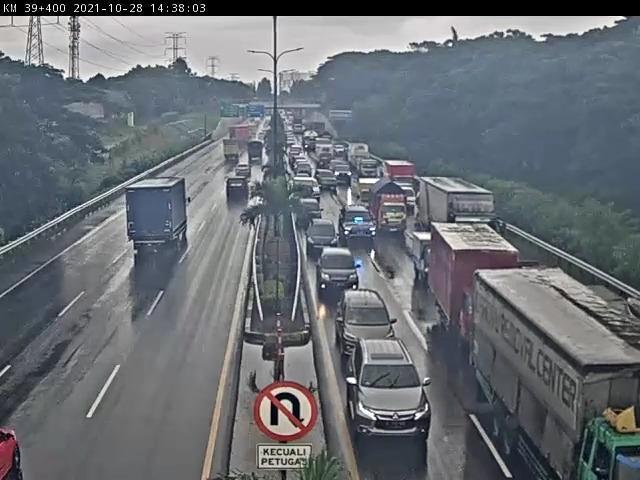car: (337, 328, 434, 439), (328, 281, 399, 355), (1, 402, 47, 480), (314, 243, 365, 297), (404, 224, 439, 286), (335, 202, 380, 246), (303, 218, 343, 257), (221, 179, 250, 211), (235, 158, 260, 184)
truck: (461, 256, 640, 480), (423, 220, 524, 343), (410, 170, 509, 240), (119, 173, 196, 262), (371, 180, 412, 243), (223, 138, 244, 165), (247, 140, 267, 162)
